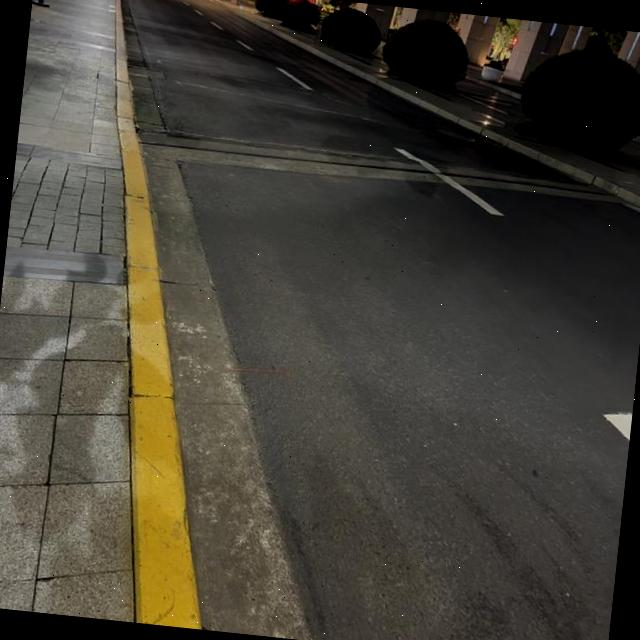curb: (276, 33, 640, 214), (116, 0, 200, 628)
